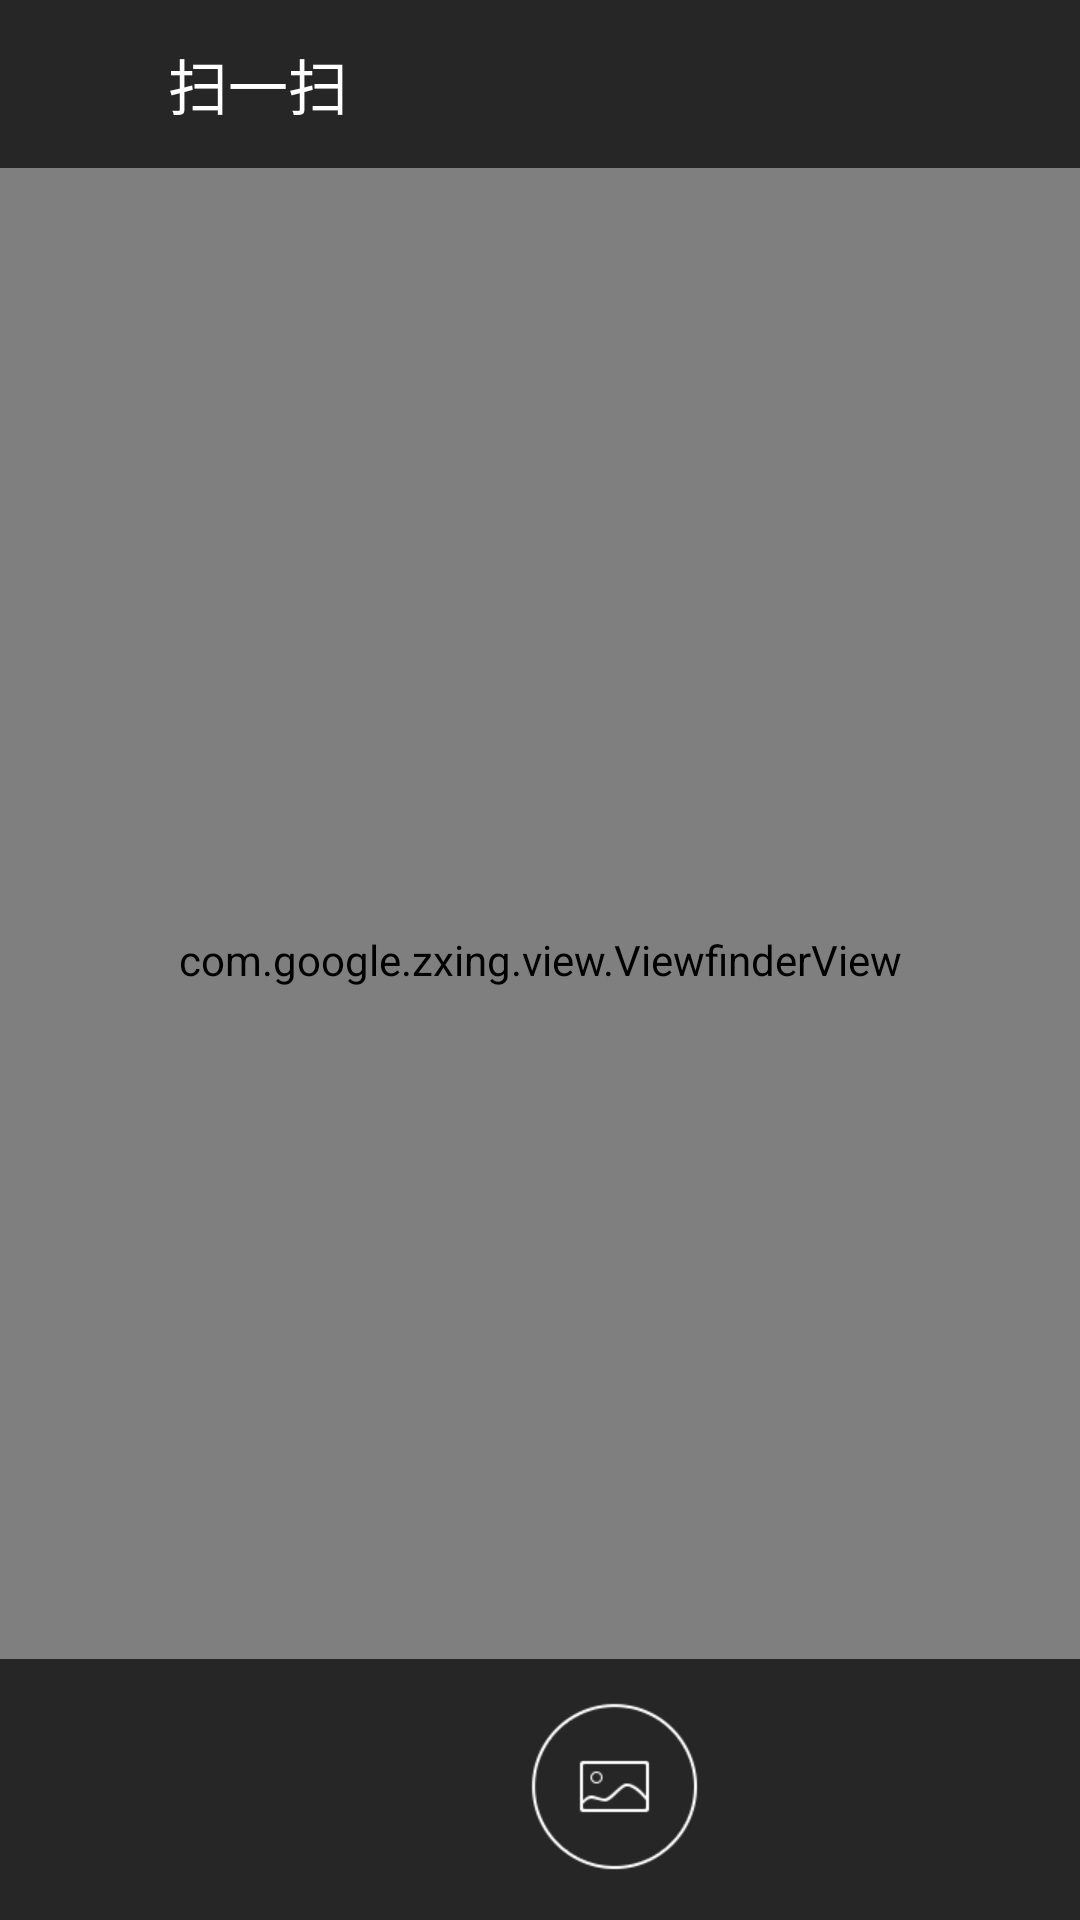

Icon click points for this 1080w x 1920h phone screenshot, format [x,y]:
capture album: [614,1786]
